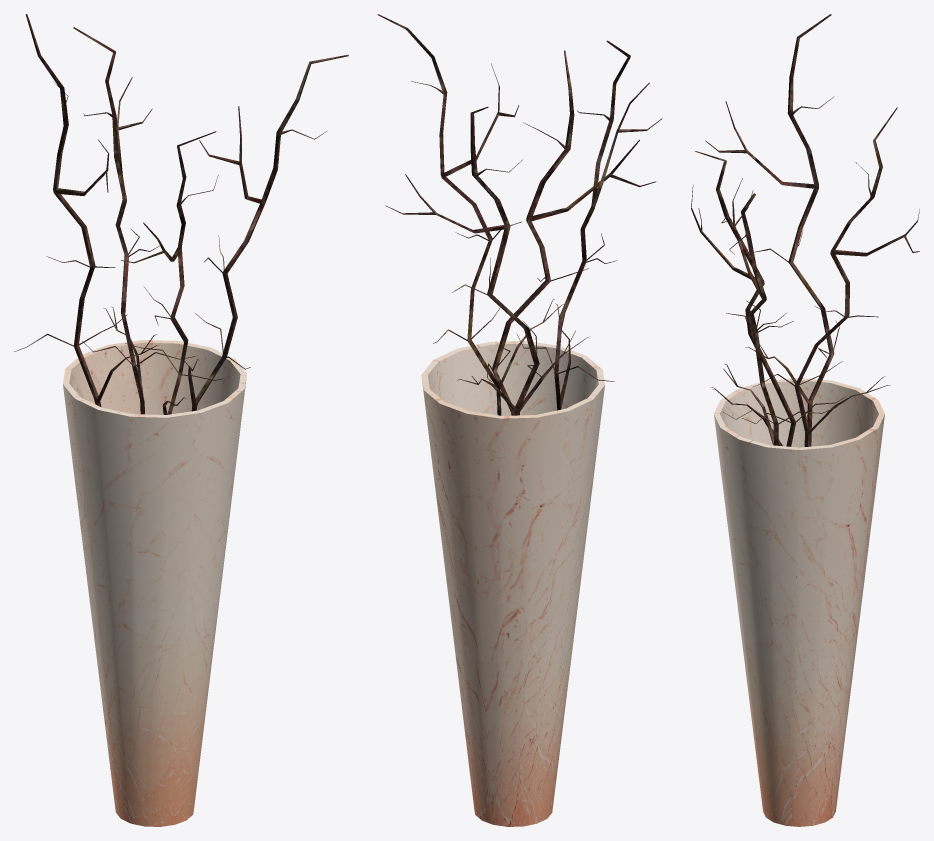
The model's file is vase_2.FBX.
3 views of the same model, side by side, from view 1: azimuth 30°, elevation 25°; view 2: azimuth 150°, elevation 25°; view 3: azimuth 270°, elevation 25° (orthographic). The views are drawn at different scales.
Parts seen in each view (by area): view 1: vase, brances; view 2: vase, brances; view 3: vase, brances.
Part boxes in pixels (<box>): vase: <box>63,340,246,826</box>; brances: <box>14,14,348,414</box>; vase: <box>421,341,604,826</box>; brances: <box>377,14,662,415</box>; vase: <box>714,378,884,826</box>; brances: <box>691,14,919,446</box>.
Bounding box in the file's own units: 20.53 × 55.63 × 15.44.
2 materials, 2 textured.
